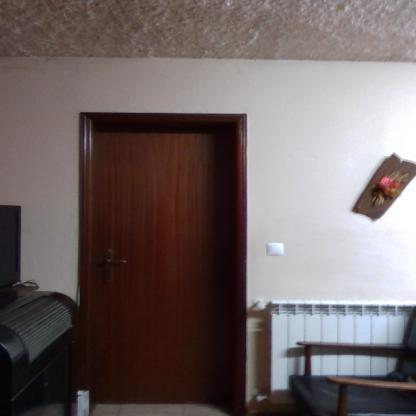door: (92, 131, 235, 402)
lever: (103, 258, 134, 268)
